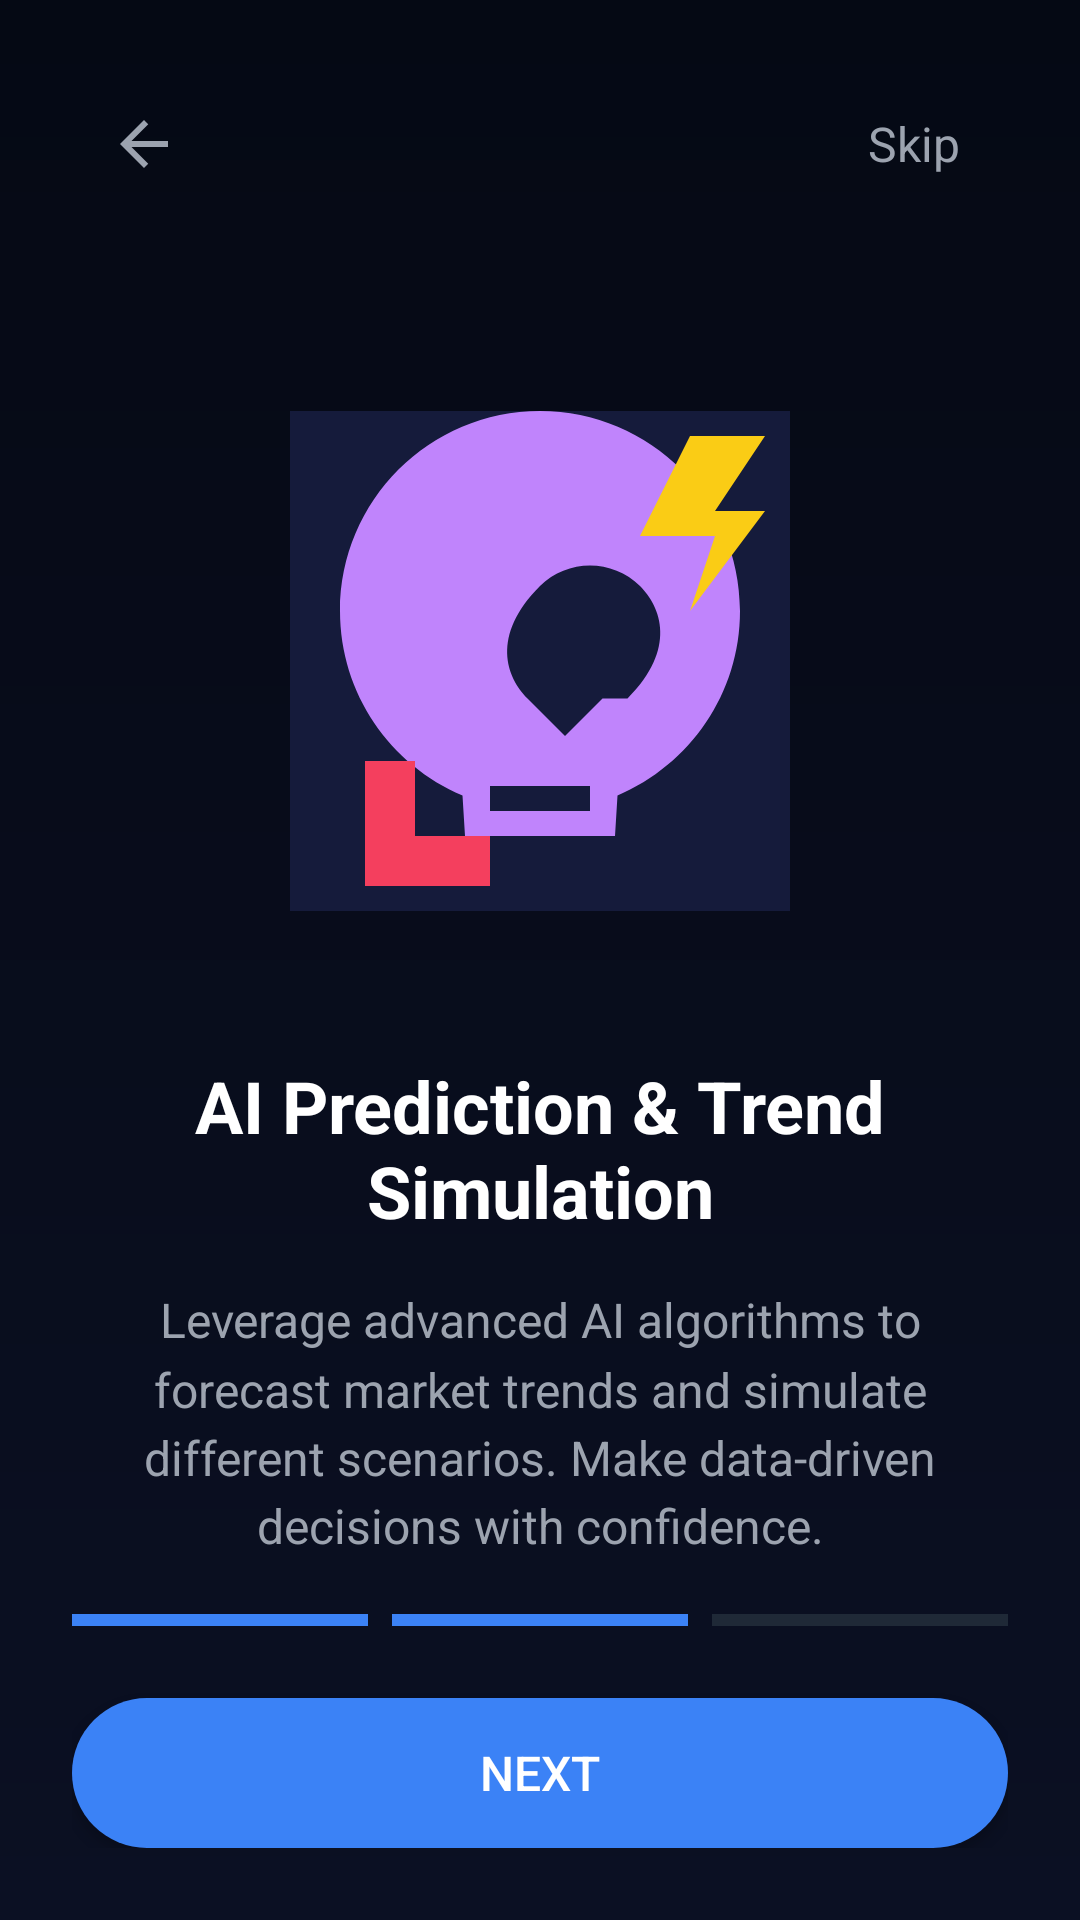

Where to tap for icons on this 1080x1920 app screen, as (x=x, y=y):
back arrow: (x=144, y=144)
